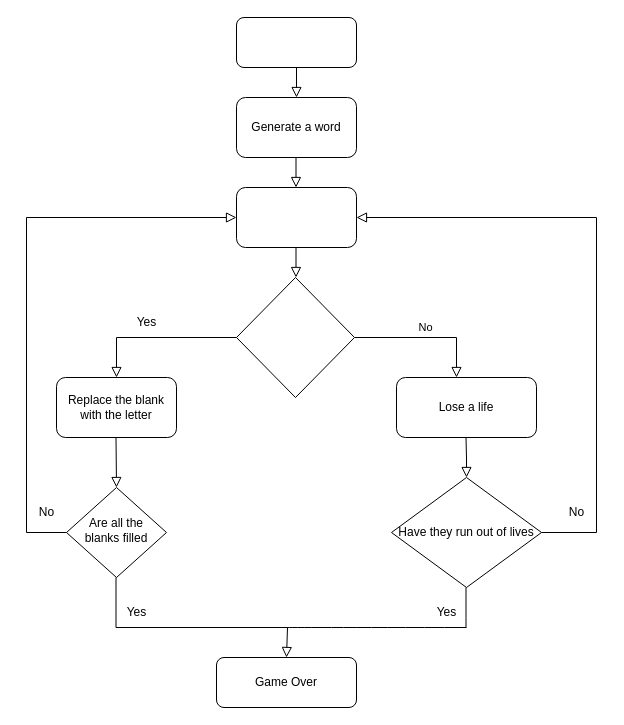
The diagram is 624 pixels wide and 725 high, and some of its shapes have lost their labels. Each missing label, with the centre of its shape:
"Ask the user to guess a letter" goes at (x=296, y=217).
"Is the guessed letter in the word?" goes at (x=295, y=337).
"Start" goes at (x=296, y=42).
